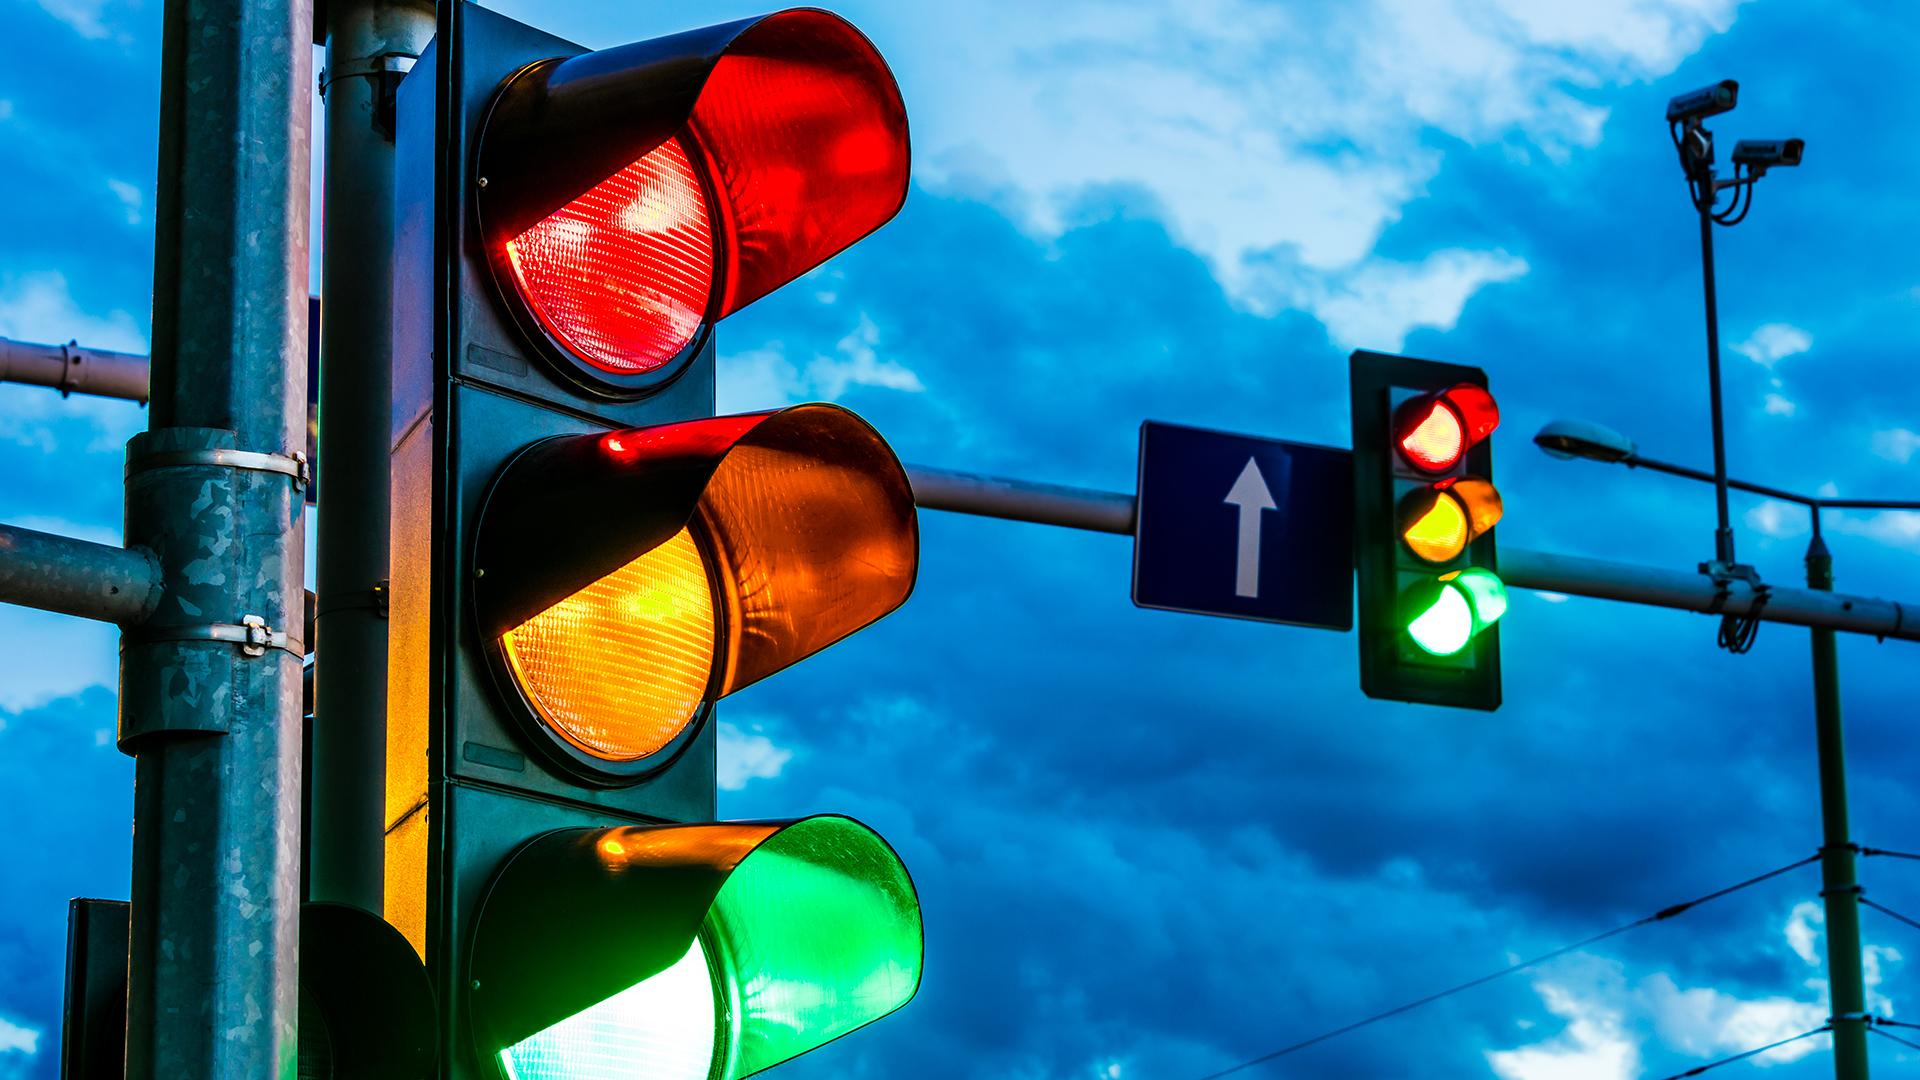traffic light: (124, 1, 992, 1080), (1274, 324, 1571, 760)
traffic sign: (1125, 400, 1395, 686)
